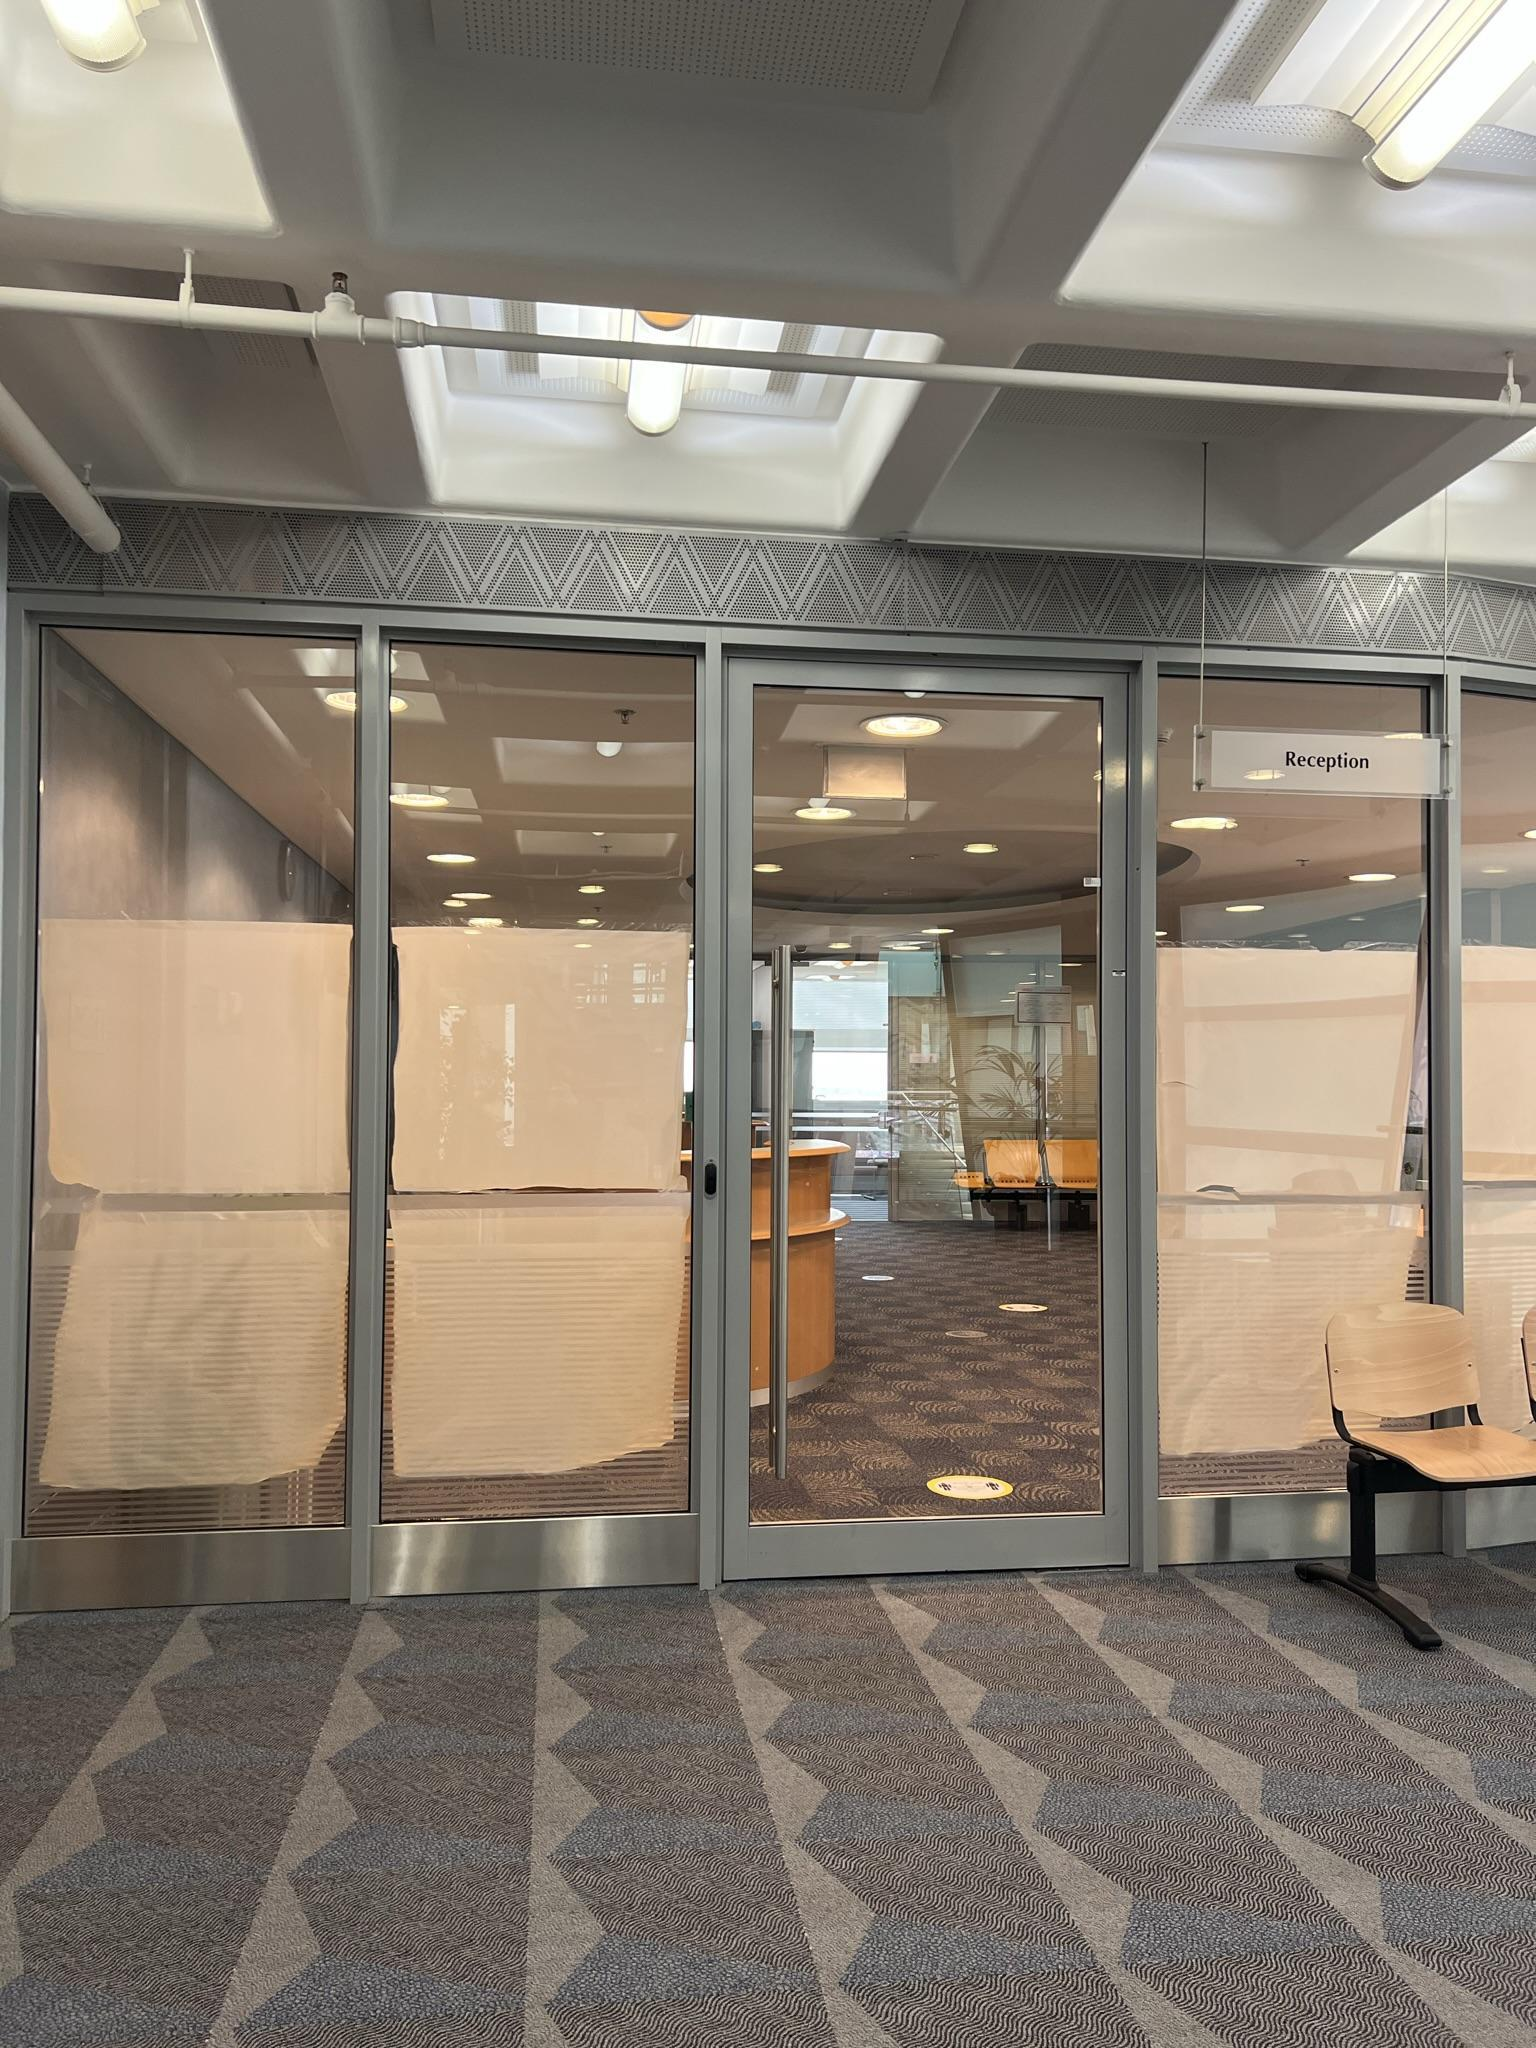door: (702, 640, 1146, 1582)
handle: (773, 943, 794, 1493)
